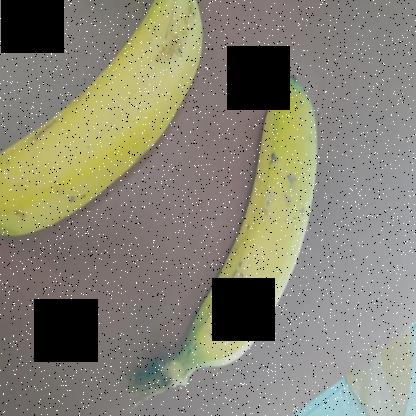freshripe: (0, 1, 224, 248)
ripe: (177, 98, 328, 390)
